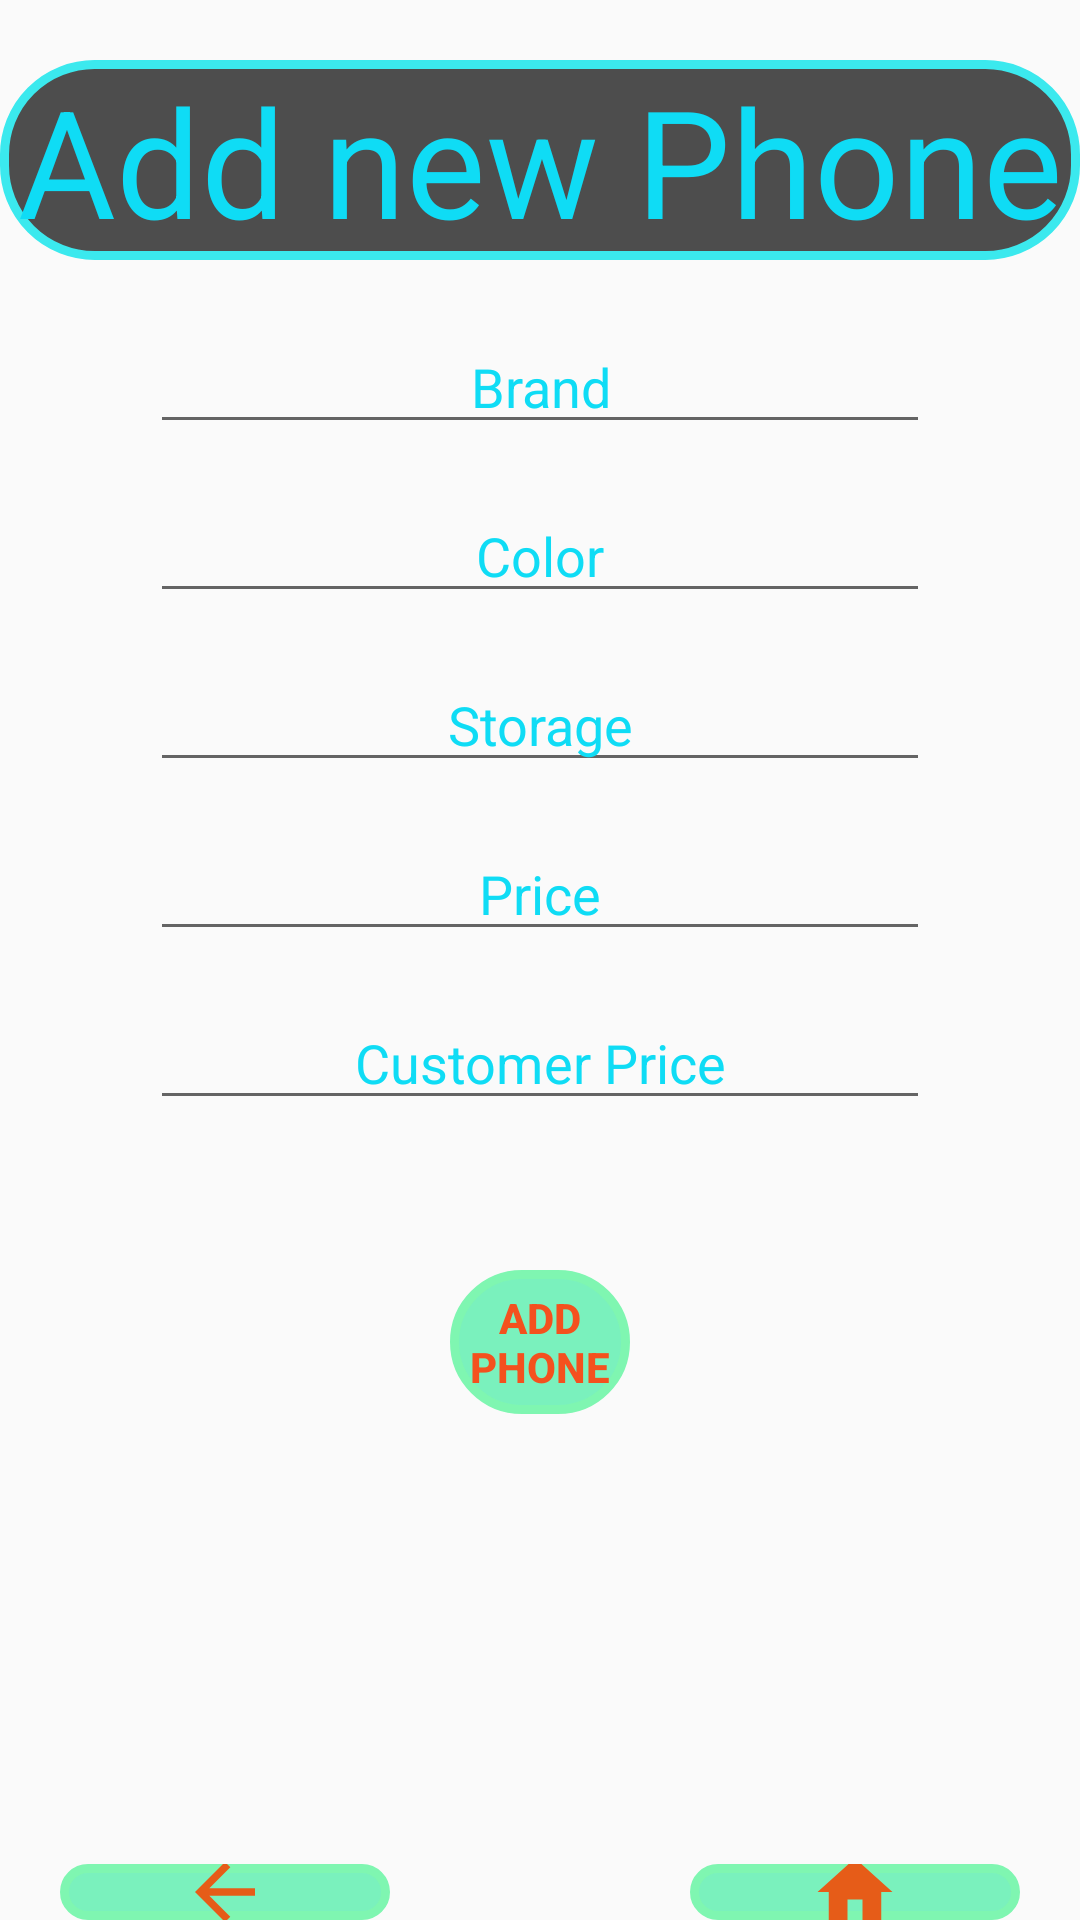

Where icons sit on this 1080px×1920px app screen, as (x1, y1, x2, y2):
arrow back: (60, 1864, 390, 1920)
home: (690, 1864, 1020, 1920)
